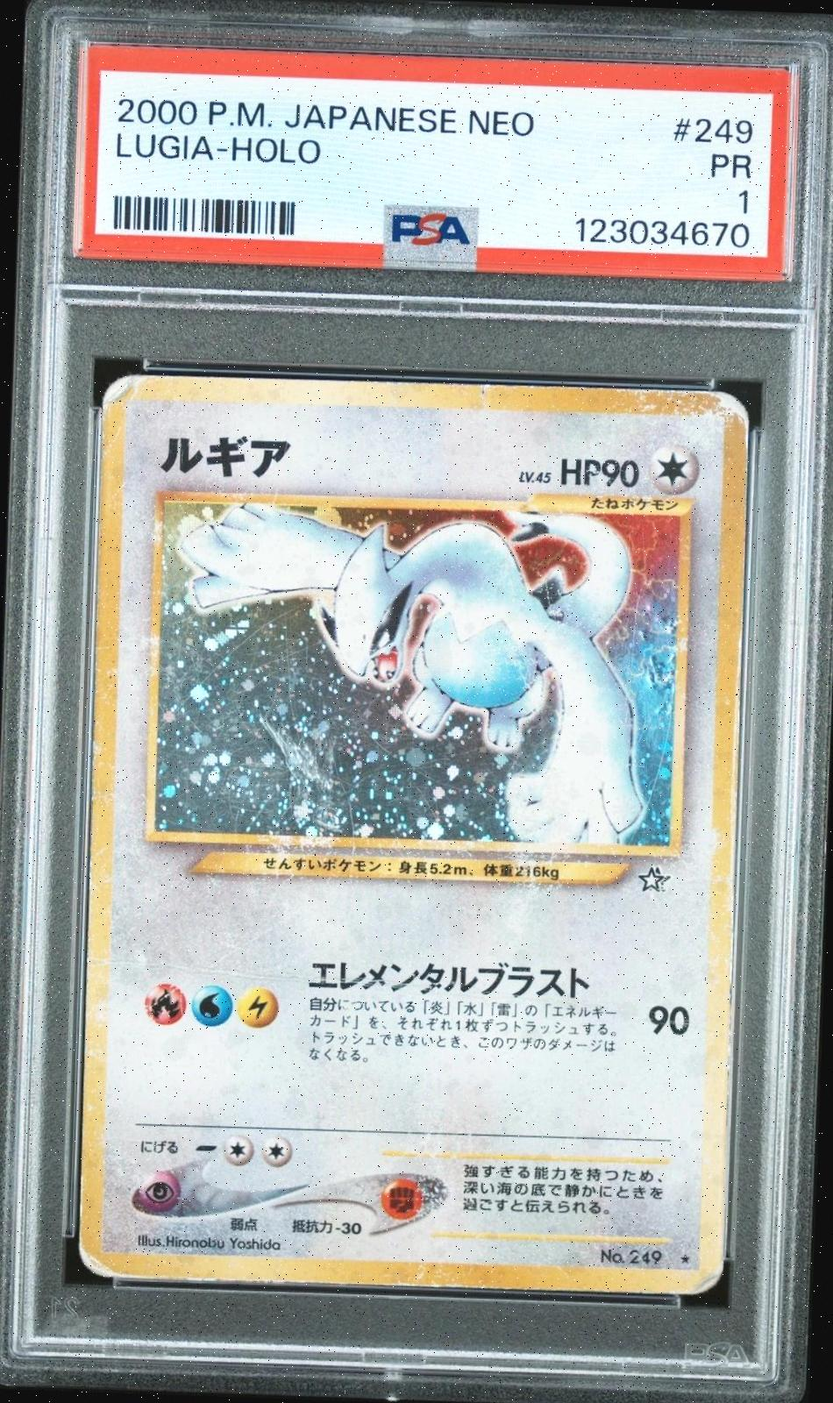card-2UtV: (78, 373, 749, 1296)
